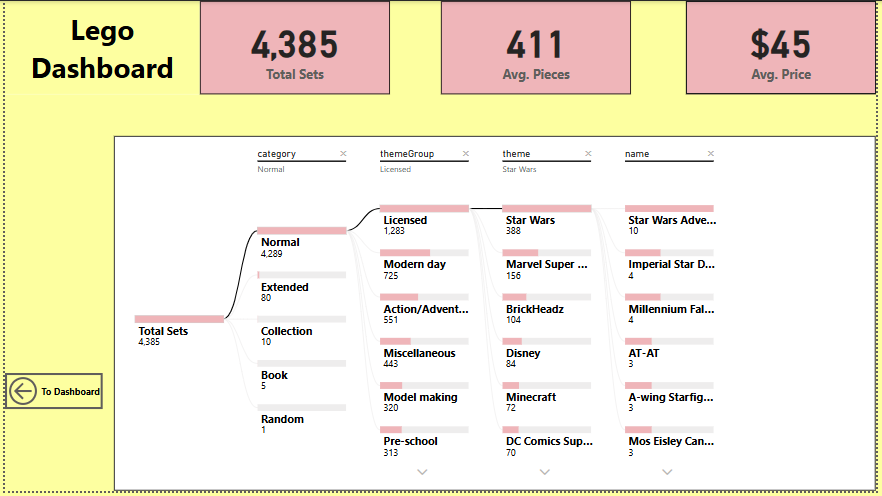

The dashboard page shown, as its layout file describes it:
{"tool":"powerbi","page":{"name":"Set Explorer","canvas":[1280,720],"ordinal":2},"visuals":[{"type":"decompositionTreeVisual","fields":{"Analyze":["MeasureTable.Total Sets"],"ExplainBy":["lego_sets.category","lego_sets.themeGroup","lego_sets.theme","lego_sets.name"]},"box":[160.6,198.2,1119.4,521.2],"z":0},{"type":"card","fields":{"Values":["MeasureTable.Avg. Pieces"]},"box":[640.7,0,279.2,136.7],"z":1000},{"type":"card","fields":{"Values":["MeasureTable.Avg. Price"]},"box":[1000.7,0,279.2,136.7],"z":2000},{"type":"textbox","box":[0,0,286.4,136.6],"z":3000},{"type":"shape","title":"Lego Dashboard","box":[0,0,286.4,136.6],"z":4000},{"type":"card","fields":{"Values":["MeasureTable.Total Sets"]},"box":[287.1,0,278.6,136.7],"z":5000},{"type":"actionButton","box":[0,546.9,143.6,53],"z":6000}]}

Visuals, with their boxes in screenshot pixels (x1, y1, x2, y2), scaled from the page's 1280x720 canvas onto the 882x496 screenshot:
decompositionTreeVisual - MeasureTable.Total Sets x lego_sets.category: x1=111 y1=137 x2=881 y2=495
card - MeasureTable.Avg. Pieces: x1=441 y1=0 x2=634 y2=94
card - MeasureTable.Avg. Price: x1=690 y1=0 x2=881 y2=94
textbox: x1=0 y1=0 x2=197 y2=94
"Lego Dashboard" shape: x1=0 y1=0 x2=197 y2=94
card - MeasureTable.Total Sets: x1=198 y1=0 x2=390 y2=94
actionButton: x1=0 y1=377 x2=99 y2=413
